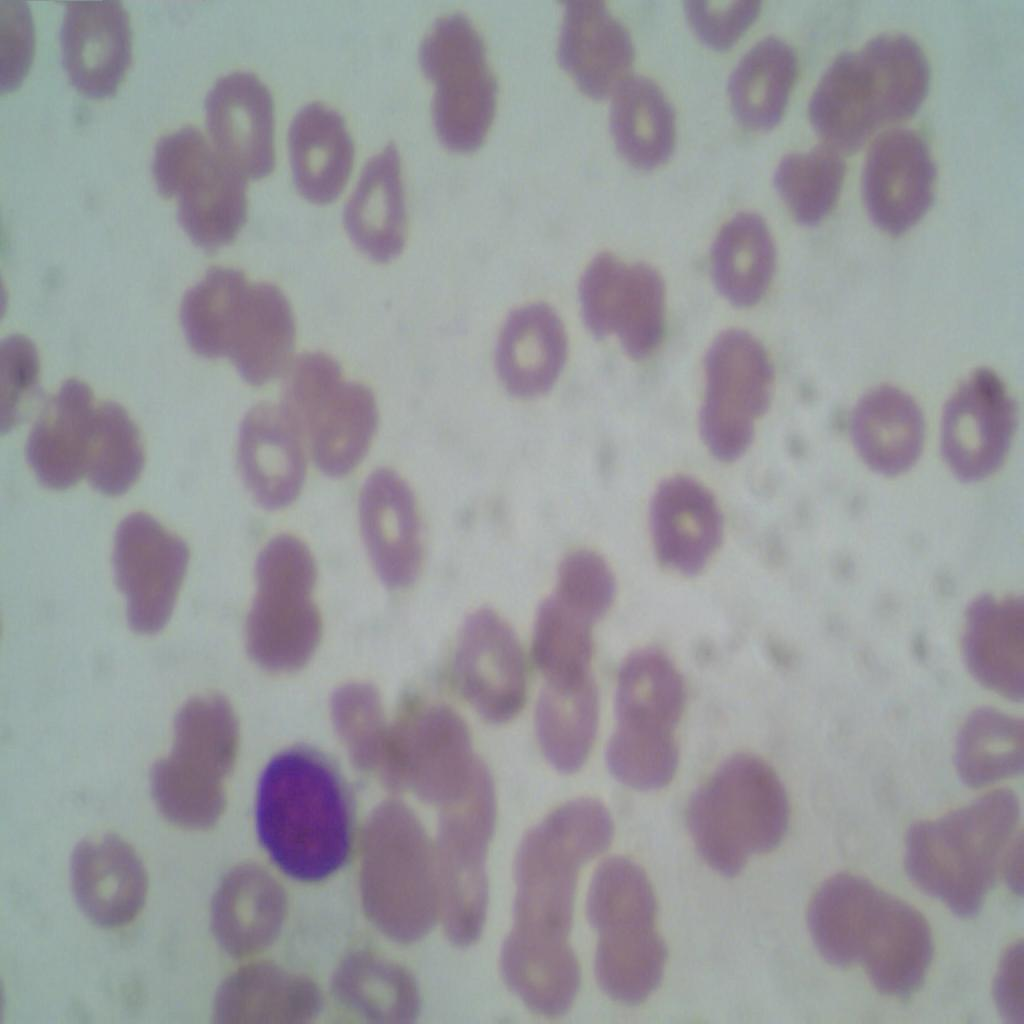Eritrosit: (919, 352, 1023, 484), (358, 802, 444, 948), (106, 511, 202, 639), (59, 818, 153, 936), (426, 68, 520, 180), (699, 205, 786, 319), (492, 917, 586, 1022), (276, 91, 356, 214), (644, 474, 729, 588), (206, 848, 294, 957), (716, 734, 796, 852), (868, 130, 949, 244), (204, 67, 281, 186), (449, 602, 524, 724), (342, 145, 415, 269), (198, 945, 314, 1023), (533, 652, 603, 778), (355, 476, 435, 586), (911, 808, 986, 925), (849, 371, 928, 481), (948, 778, 1023, 892), (701, 322, 783, 425), (803, 51, 881, 159), (173, 268, 256, 368), (146, 748, 234, 842), (384, 701, 466, 801), (51, 5, 142, 95), (163, 682, 243, 784), (226, 402, 306, 504), (946, 688, 1024, 788), (958, 585, 1024, 702), (21, 368, 95, 471), (226, 275, 296, 382), (243, 584, 321, 680), (586, 924, 671, 1012), (273, 346, 356, 434), (608, 704, 683, 801), (424, 754, 502, 847), (611, 635, 683, 735), (511, 826, 584, 924), (430, 818, 488, 939), (856, 901, 931, 994), (684, 762, 744, 876), (729, 28, 796, 130), (551, 536, 623, 630), (775, 134, 843, 232), (496, 305, 570, 395), (316, 380, 386, 474), (558, 4, 628, 97), (606, 269, 674, 364), (533, 785, 609, 870), (246, 528, 319, 615), (178, 164, 246, 257), (853, 42, 929, 124), (76, 414, 146, 503), (415, 0, 481, 94), (349, 671, 411, 771), (341, 945, 419, 1023), (582, 851, 651, 939), (690, 368, 761, 452), (815, 858, 874, 956), (618, 82, 680, 175), (575, 245, 633, 331), (146, 122, 211, 198), (531, 598, 588, 676)
Limfoblast: (254, 742, 358, 886)
